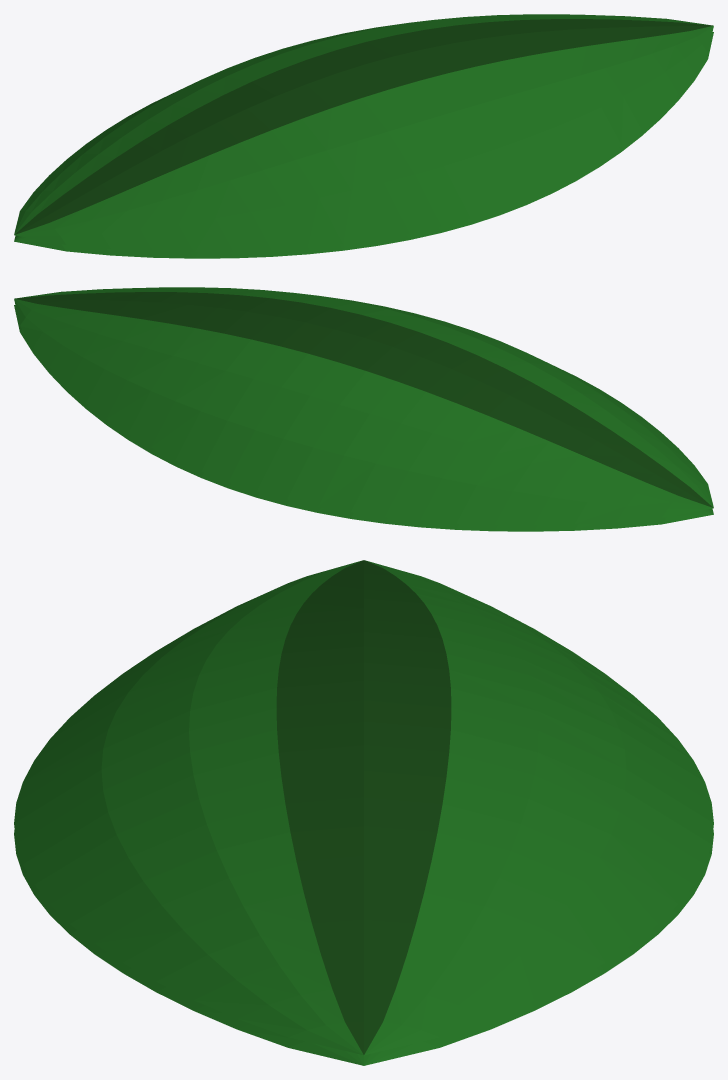
The model's file is leaf.dae.
The picture shows the model from 3 angles, top to bottom: view 1: azimuth 30°, elevation 25°; view 2: azimuth 150°, elevation 25°; view 3: azimuth 270°, elevation 25°; orthographic projection. The views are drawn at different scales.
Parts seen in each view (by area): view 1: leaf; view 2: leaf; view 3: leaf.
Boxes of the visible parts, x1,y1,x2,y2 form: leaf: (14, 14, 713, 258); leaf: (14, 287, 713, 531); leaf: (14, 560, 713, 1065).
Bounding box in the file's own units: 0.34 × 0.18 × 0.043.
